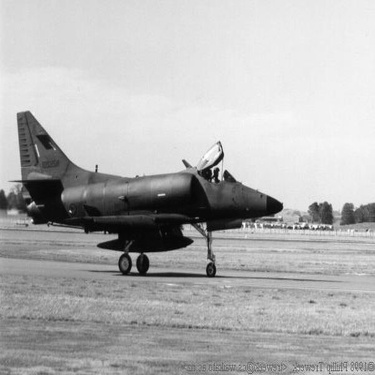airplane: (10, 110, 286, 278)
